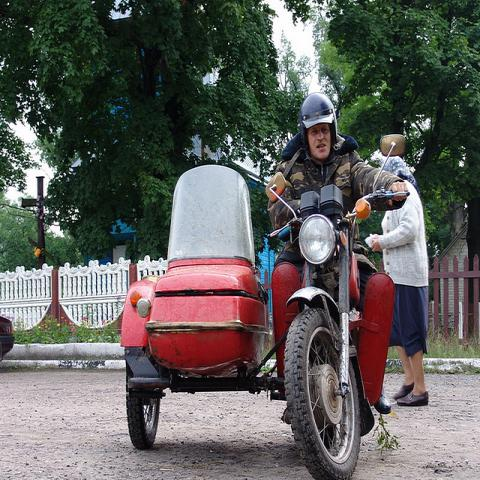car: (0, 316, 15, 362)
motorcycle: (264, 135, 413, 473)
